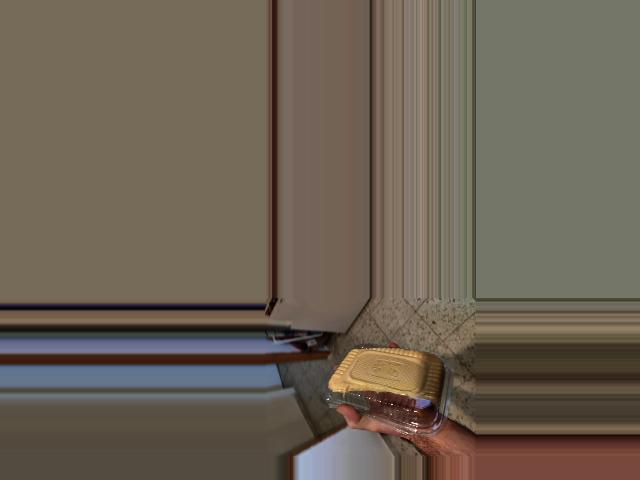cheese: (353, 358, 460, 411)
